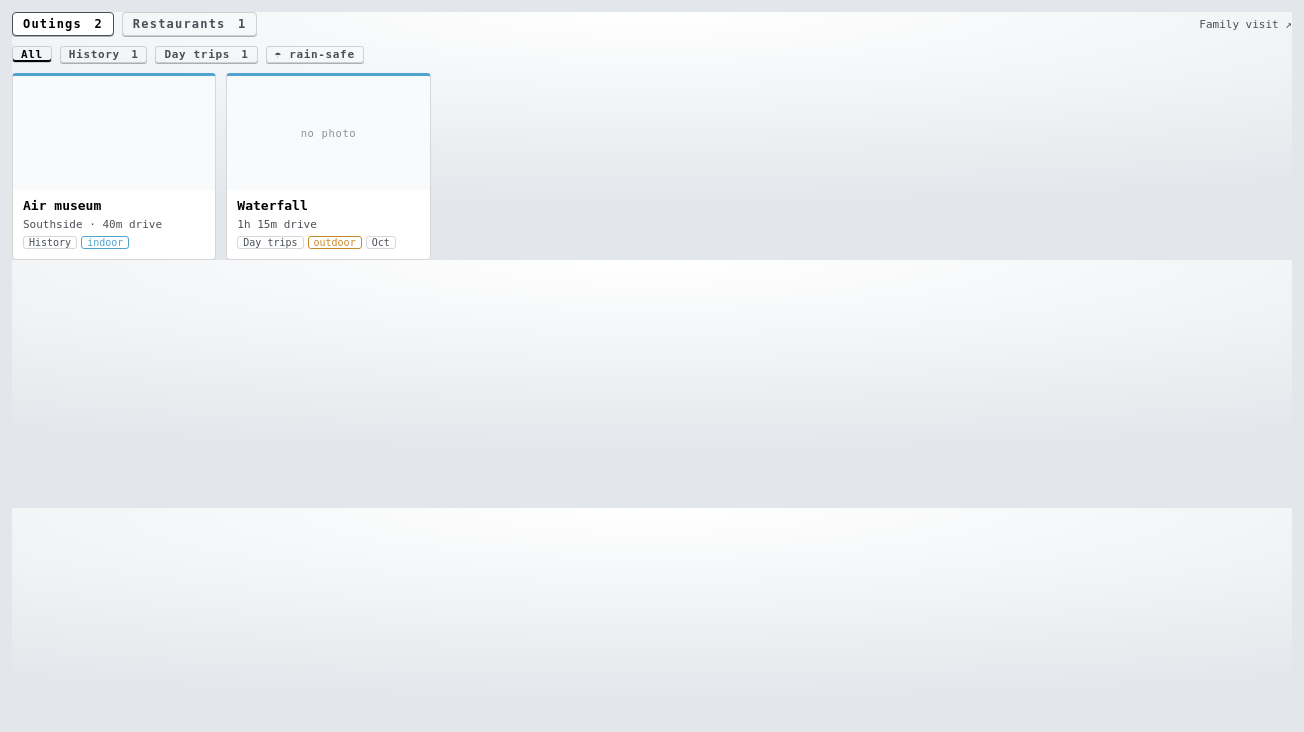
Test: BankTiles › switches to restaurants and shows their notes
Click the button "Restaurants 1": (190, 24) [122, 12, 257, 36]
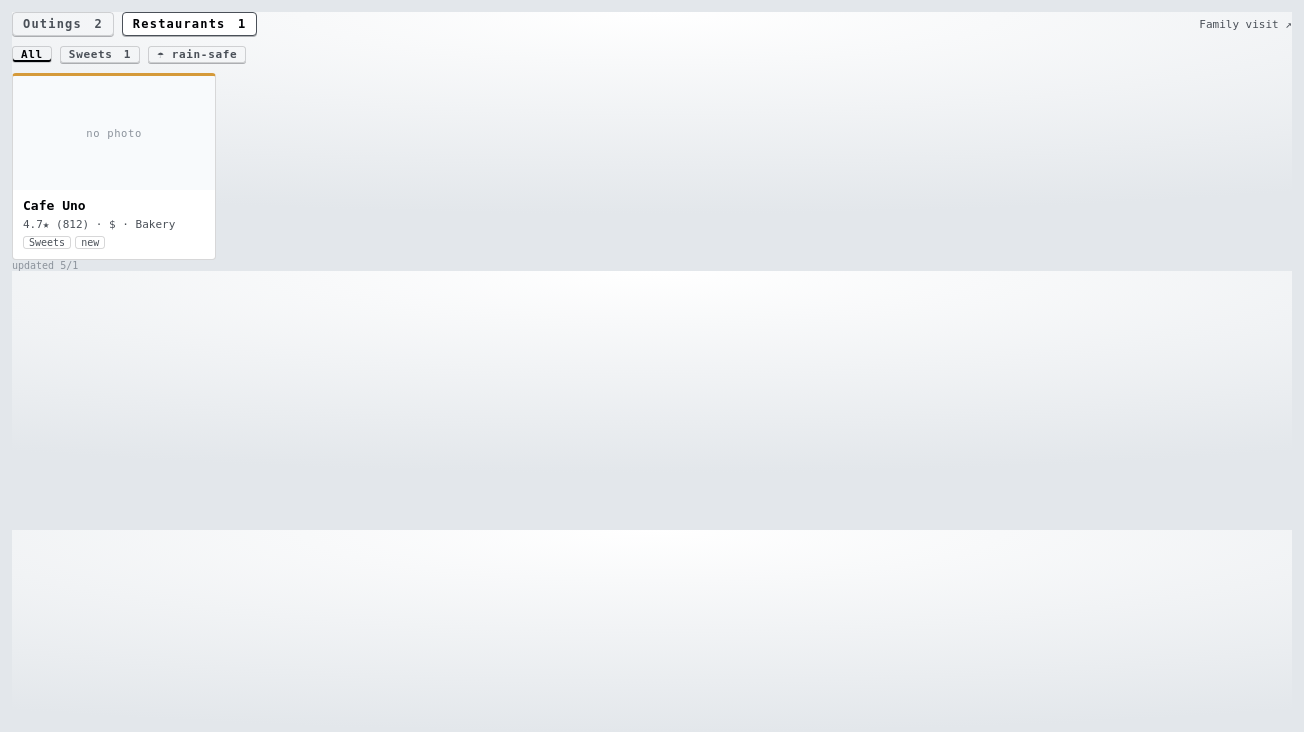
Expected: the text "Cafe Uno" is shown, [23, 198, 86, 213]
Expected: the text "4.7★ (812) · $ · Bakery" is shown, [23, 218, 175, 231]
Expected: the text "updated 5/1" is shown, [12, 260, 78, 271]
